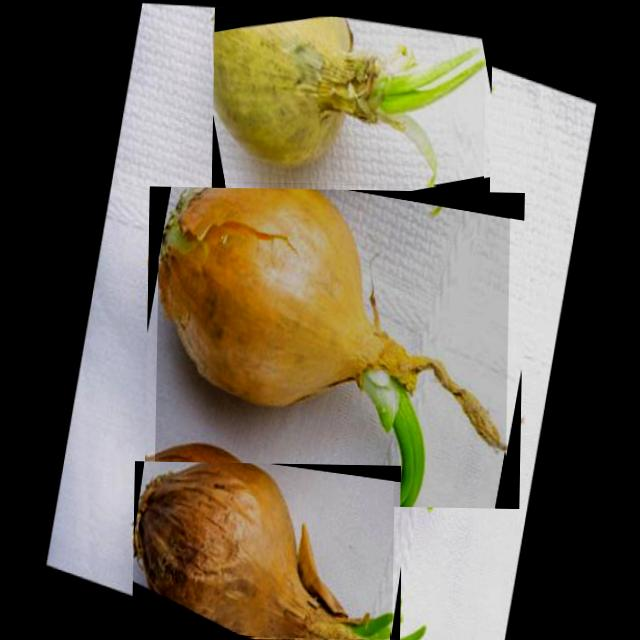sprouting: (158, 187, 505, 507), (213, 17, 486, 185), (133, 462, 391, 639)
